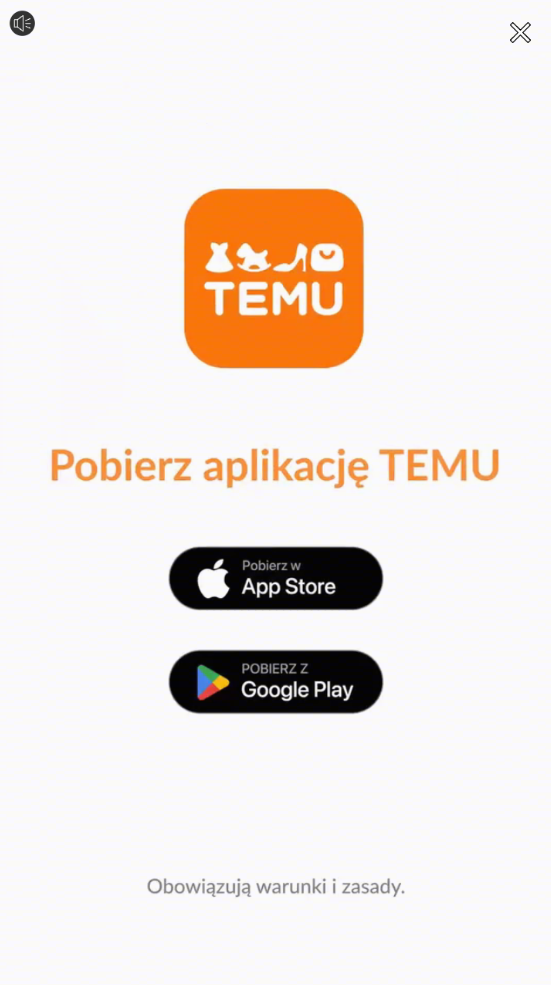close_button: (501, 13, 537, 51)
